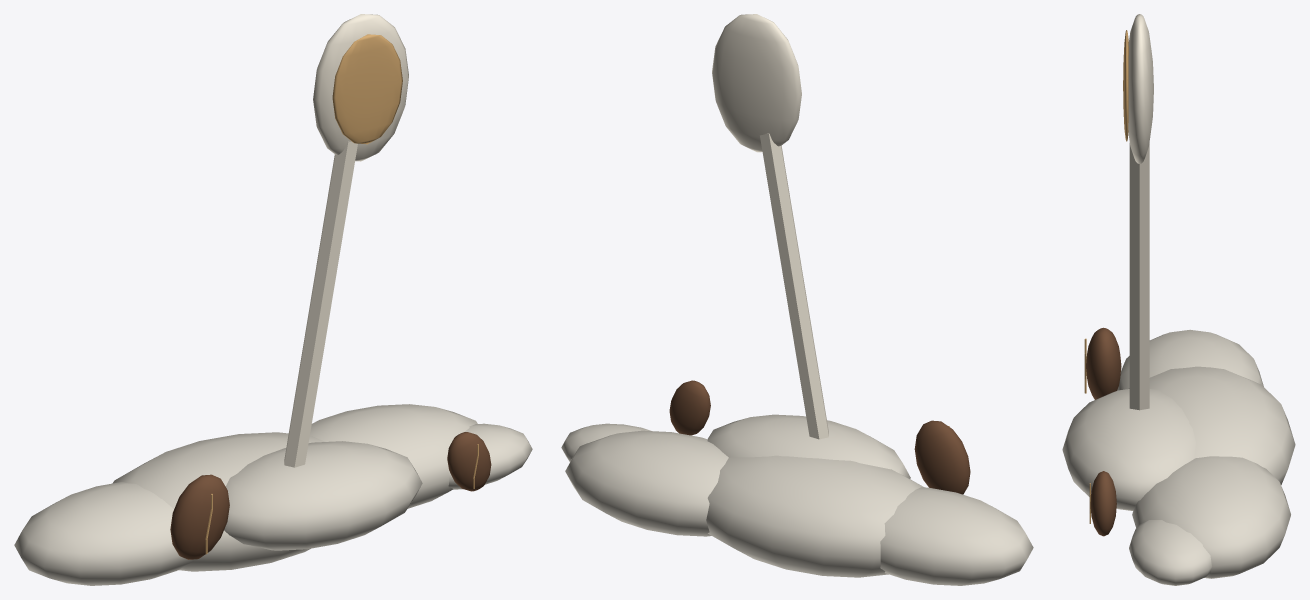
File: orb3_spoon_bean_garden_7m.glb
3 views of the same model, side by side, from view 1: azimuth 30°, elevation 25°; view 2: azimuth 150°, elevation 25°; view 3: azimuth 270°, elevation 25° (orthographic). The views are drawn at different scales.
Visible parts, largest first — view 1: orb3_spoon_bean_garden_7m__orb3-foam-cream, orb3_spoon_bean_garden_7m__orb3-ivory-ceramic, orb3_spoon_bean_garden_7m__orb3-brushed-brass, orb3_spoon_bean_garden_7m__orb3-roasted-coffee; view 2: orb3_spoon_bean_garden_7m__orb3-foam-cream, orb3_spoon_bean_garden_7m__orb3-ivory-ceramic, orb3_spoon_bean_garden_7m__orb3-roasted-coffee; view 3: orb3_spoon_bean_garden_7m__orb3-foam-cream, orb3_spoon_bean_garden_7m__orb3-ivory-ceramic, orb3_spoon_bean_garden_7m__orb3-roasted-coffee, orb3_spoon_bean_garden_7m__orb3-brushed-brass.
Boxes of the visible parts, x1,y1,x2,y2 form: orb3_spoon_bean_garden_7m__orb3-foam-cream: [14, 404, 532, 585]; orb3_spoon_bean_garden_7m__orb3-ivory-ceramic: [284, 14, 408, 467]; orb3_spoon_bean_garden_7m__orb3-brushed-brass: [205, 34, 478, 554]; orb3_spoon_bean_garden_7m__orb3-roasted-coffee: [170, 432, 491, 559]; orb3_spoon_bean_garden_7m__orb3-foam-cream: [561, 414, 1033, 585]; orb3_spoon_bean_garden_7m__orb3-ivory-ceramic: [712, 14, 828, 439]; orb3_spoon_bean_garden_7m__orb3-roasted-coffee: [669, 380, 970, 494]; orb3_spoon_bean_garden_7m__orb3-foam-cream: [1062, 329, 1295, 585]; orb3_spoon_bean_garden_7m__orb3-ivory-ceramic: [1128, 14, 1153, 410]; orb3_spoon_bean_garden_7m__orb3-roasted-coffee: [1086, 327, 1121, 536]; orb3_spoon_bean_garden_7m__orb3-brushed-brass: [1084, 30, 1128, 523].
Size of the model in its own units: 7.8 by 7.98 by 3.24.
